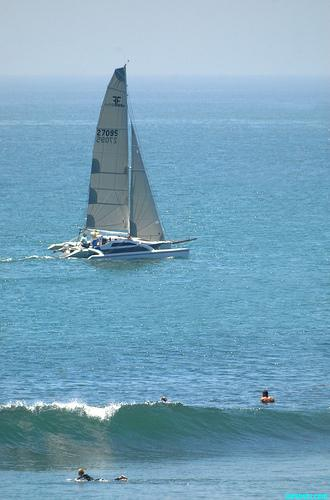Ship: (64, 68, 195, 268)
